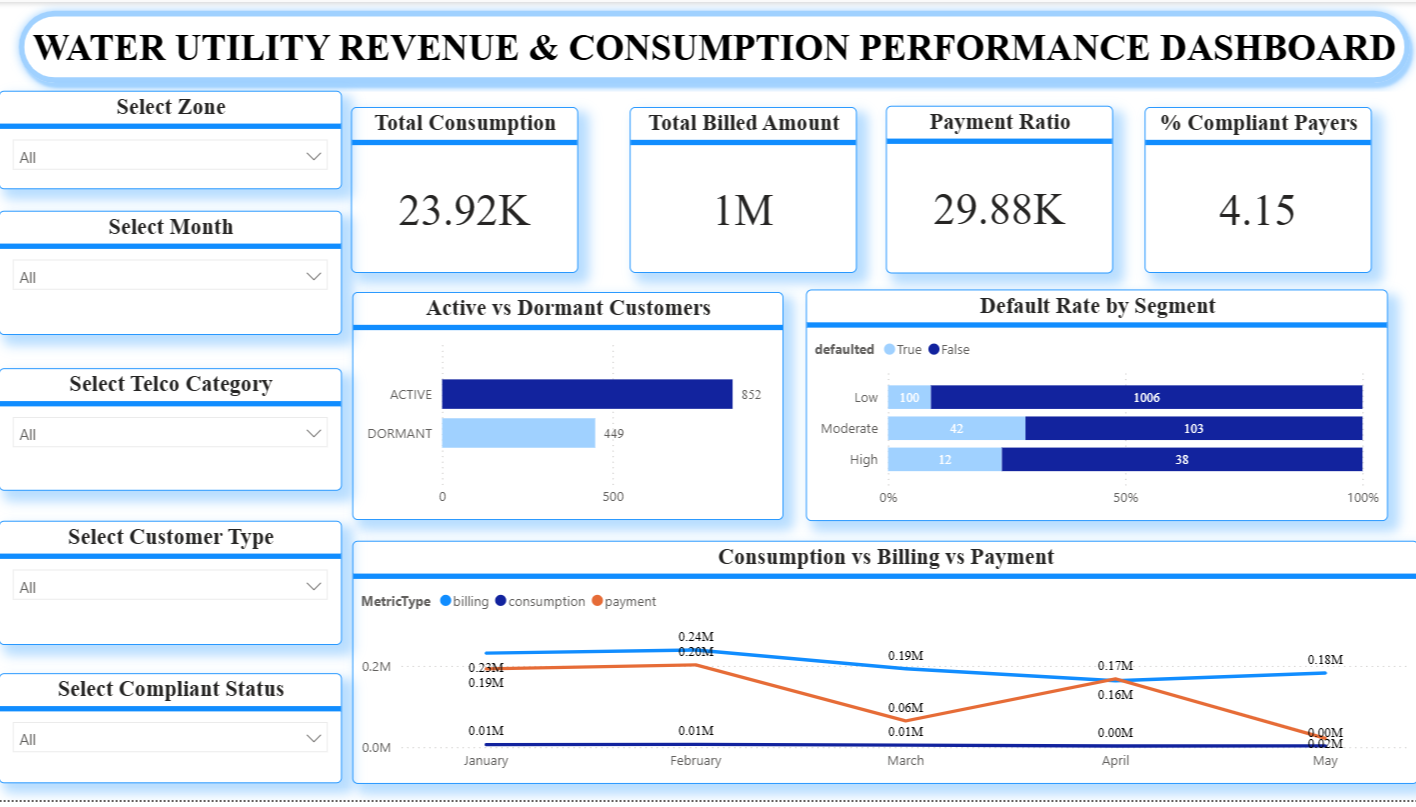

This screenshot's page, from the dashboard's own definition file:
{"tool":"powerbi","page":{"name":"Page 1","canvas":[1280,720],"ordinal":0},"visuals":[{"type":"shape","title":"Tracking customer activity, payment compliance, and usage trends to drive sustainable growth and operational efficiency","box":[9.6,0,1270.7,81],"z":0},{"type":"card","title":"Total Consumption","fields":{"Values":["Sum(Sheet1.total_consumption)"]},"box":[318.4,94.7,204.5,149.6],"z":1000},{"type":"card","title":"Total Billed Amount","fields":{"Values":["Sum(Sheet1.total_billed)"]},"box":[569.5,94.7,204.5,149.6],"z":2000},{"type":"card","title":" Payment Ratio","fields":{"Values":["Sum(Sheet1.payment_ratio)"]},"box":[800,93.3,204.5,150.9],"z":3000},{"type":"card","title":"% Compliant Payers ","fields":{"Values":["Sheet1.% Compliant Payers"]},"box":[1033.3,94.7,204.5,149.6],"z":4000},{"type":"clusteredBarChart","title":"Active vs Dormant Customers","fields":{"Category":["Sheet1.status"],"Y":["CountNonNull(Sheet1.name)"]},"box":[319,261.8,388.6,205.9],"z":5000},{"type":"hundredPercentStackedBarChart","title":"Default Rate by Segment","fields":{"Category":["Sheet1.usage_segment"],"Y":["CountNonNull(Sheet1.name)"],"Series":["Sheet1.defaulted"]},"box":[728.1,259.1,524.9,208.6],"z":6000},{"type":"lineChart","title":"Consumption vs Billing vs Payment","fields":{"Category":["MonthTable (2).MonthName"],"Y":["Sum(Sheet1 (2).Amount)"],"Series":["Sheet1 (2).MetricType"]},"box":[319,485.4,961.2,219.5],"z":7000},{"type":"slicer","title":"Select Zone","fields":{"Values":["Sheet1.zone"]},"box":[0,80.4,309.5,88.6],"z":8000},{"type":"slicer","title":"Select Telco Category","fields":{"Values":["Sheet1.telco_category"]},"box":[0,330,309.5,110.4],"z":9000},{"type":"slicer","title":"Select Month","fields":{"Values":["MonthTable (2).MonthName"]},"box":[0,188.2,309.5,111.8],"z":10000},{"type":"slicer","title":"Select Customer Type","fields":{"Values":["Sheet1.customer_type"]},"box":[0,467.7,309.5,111.8],"z":11000},{"type":"slicer","title":"Select Compliant Status","fields":{"Values":["Sheet1.compliance_segment"]},"box":[0,605.4,309.5,99.5],"z":12000}]}

Visuals, with their boxes in screenshot pixels (x1, y1, x2, y2), scaled from the page's 1280x720 canvas onto the 1416x807 screenshot:
"Tracking customer activity, payment compliance, and usage trends to drive sustainable growth and operational efficiency" shape: bbox=[11, 0, 1415, 91]
"Total Consumption" card: bbox=[352, 106, 578, 274]
"Total Billed Amount" card: bbox=[630, 106, 856, 274]
" Payment Ratio" card: bbox=[885, 105, 1111, 274]
"% Compliant Payers " card: bbox=[1143, 106, 1369, 274]
"Active vs Dormant Customers" clusteredBarChart: bbox=[353, 293, 783, 524]
"Default Rate by Segment" hundredPercentStackedBarChart: bbox=[805, 290, 1386, 524]
"Consumption vs Billing vs Payment" lineChart: bbox=[353, 544, 1415, 790]
"Select Zone" slicer: bbox=[0, 90, 342, 189]
"Select Telco Category" slicer: bbox=[0, 370, 342, 494]
"Select Month" slicer: bbox=[0, 211, 342, 336]
"Select Customer Type" slicer: bbox=[0, 524, 342, 650]
"Select Compliant Status" slicer: bbox=[0, 679, 342, 790]
